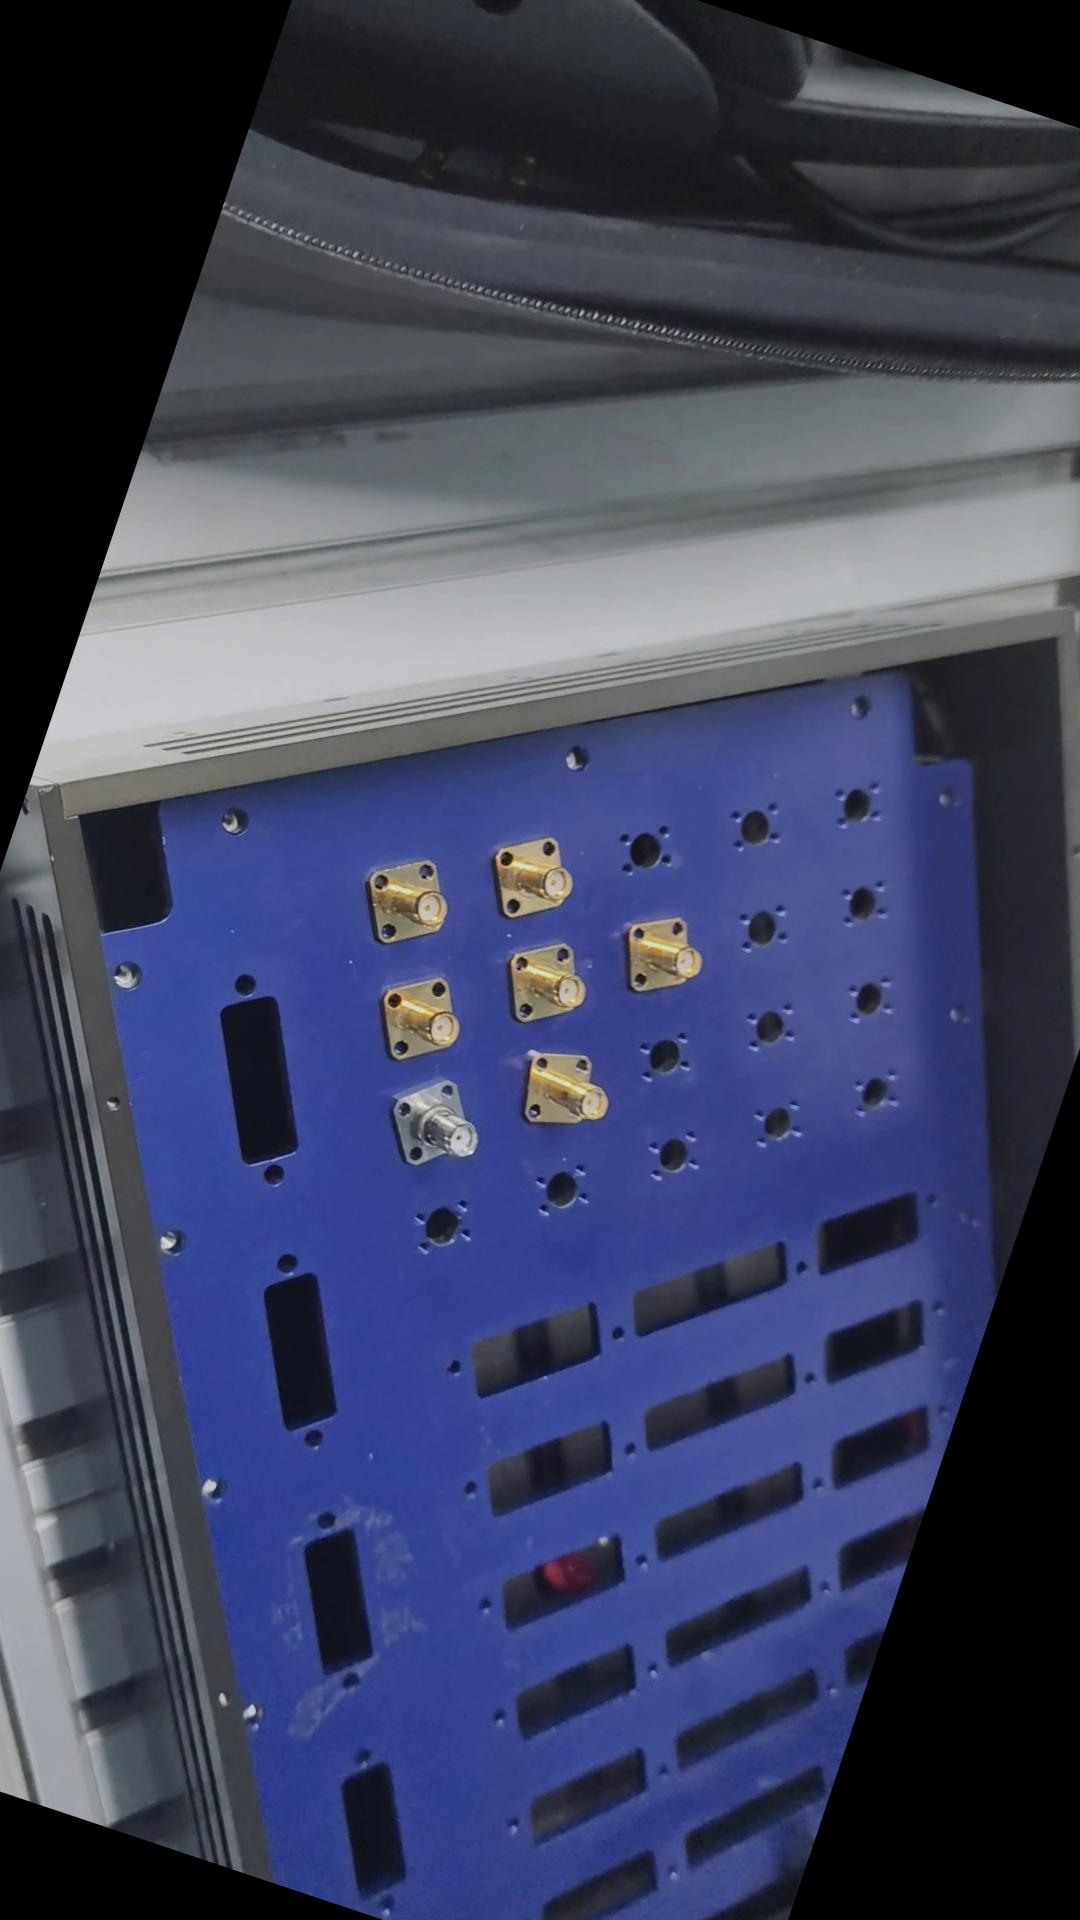SMA: (371, 1058, 498, 1185), (342, 832, 467, 960), (361, 955, 487, 1079), (489, 927, 607, 1044), (607, 901, 717, 1014), (481, 822, 592, 932), (510, 1040, 616, 1141)
